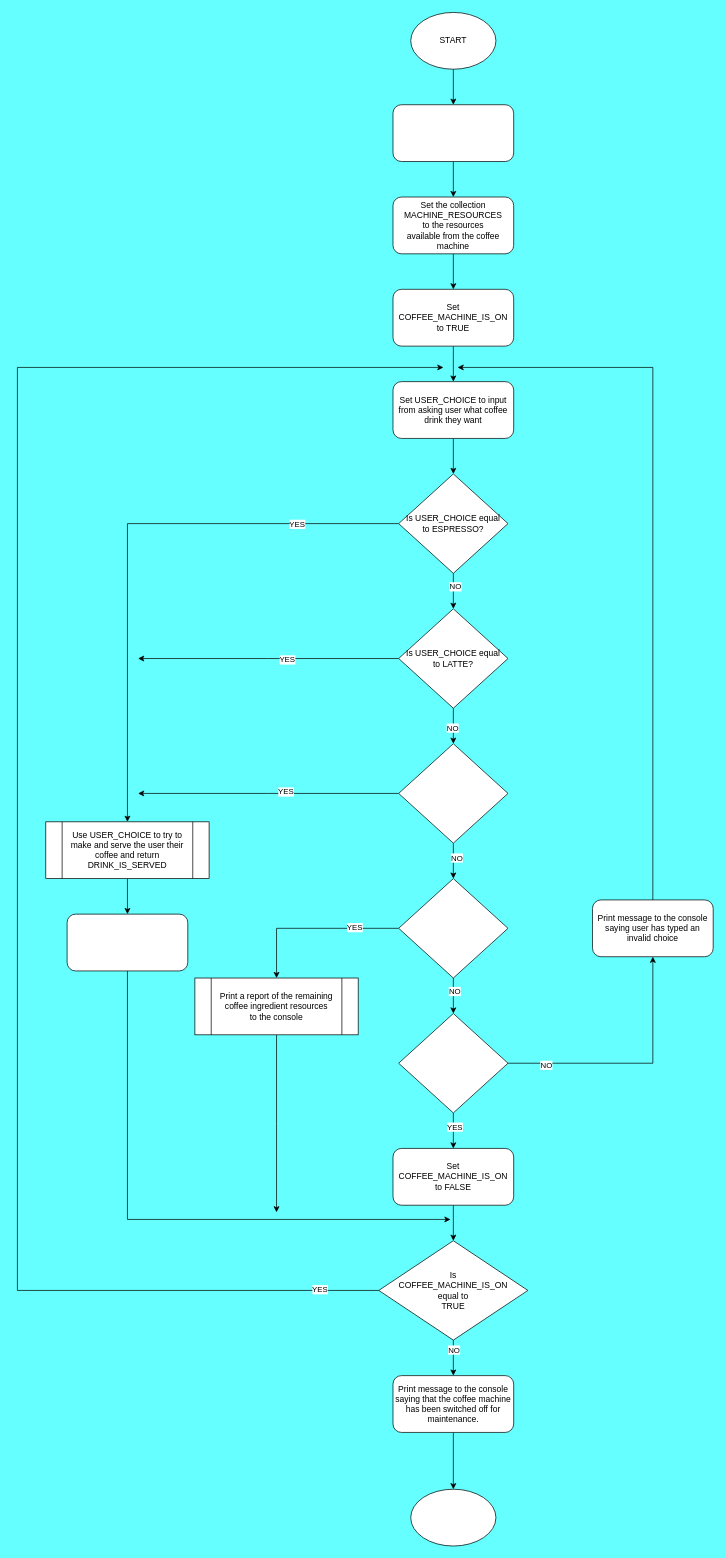
The diagram is 726 pixels wide and 1558 high, and some of its shapes have lost their labels. The centre of each missing label's shape, as x and y in pixels:
"END" belongs at (453,1517).
"Is USER_CHOICE equal to CAPPUCCINO?" belongs at (453,793).
"Is USER_CHOICE equal to OFF?" belongs at (453,1063).
"Is USER_CHOICE equal to REPORT?" belongs at (453,928).
"Set COFFEE_MACHINE_IS_ON to DRINK_IS_SERVED" belongs at (127,942).
"Set the collection COFFEE_MENU to the menu of coffee drinks available" belongs at (453,133).
